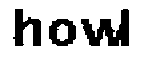h: (9, 5, 45, 51)
l: (121, 3, 140, 55)
o: (48, 17, 77, 47)
w: (79, 18, 123, 51)
